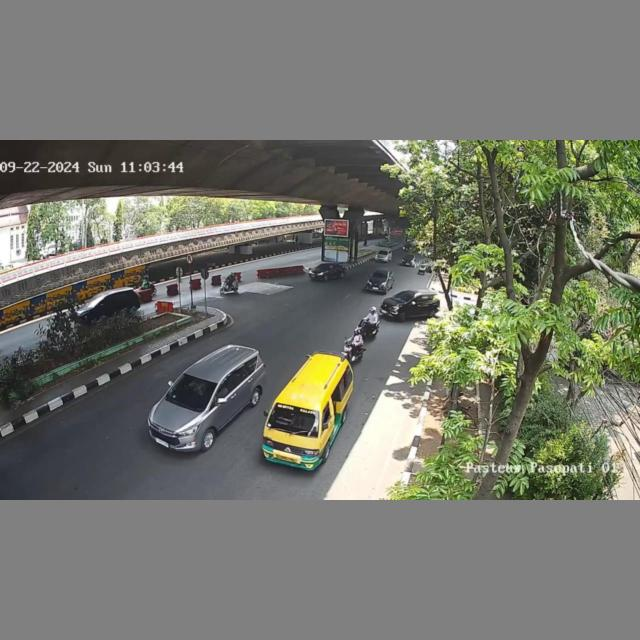windshield: (170, 374, 218, 412), (266, 402, 317, 436)
